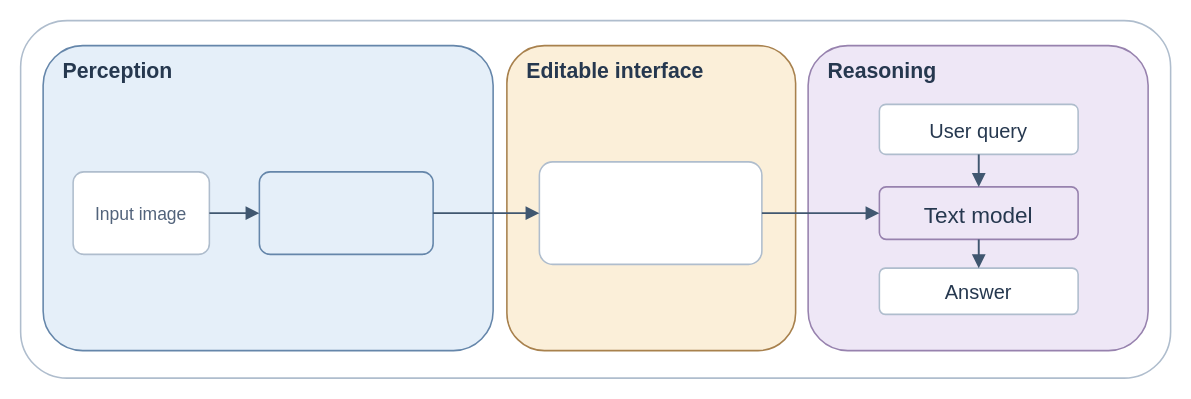
The diagram is 1191 pixels wide and 399 high, and some of its shapes have lost their labels. Each missing label, with the centre of its shape:
Find objects: the point at 345,212
Scene report object at (row, col): the point at 650,212
